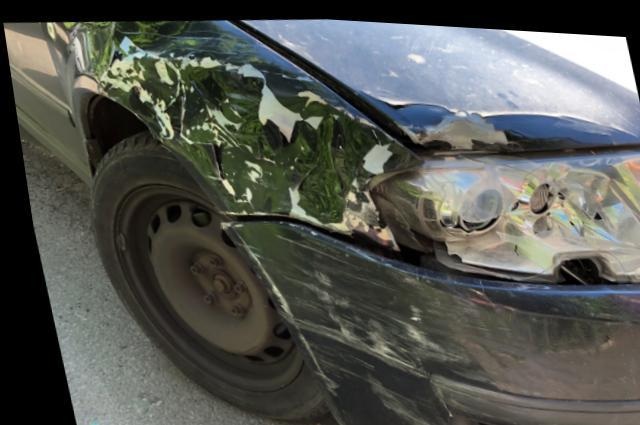dent: (96, 55, 401, 224)
dislocated part: (209, 16, 639, 156)
lamp broken: (364, 141, 640, 276)
scratch: (223, 225, 501, 425)
